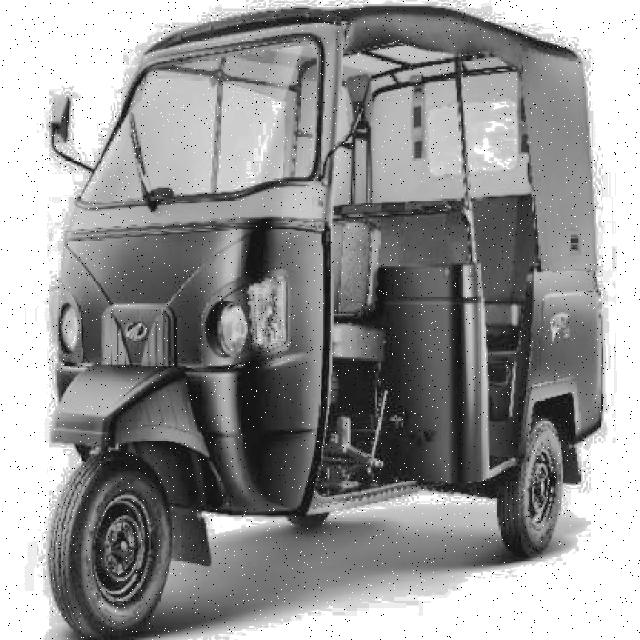Auto-Rickshaw: (45, 3, 603, 638)
